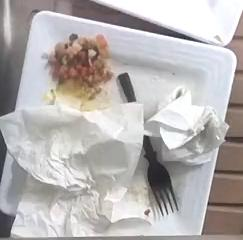taco_mix: (49, 34, 116, 111)
